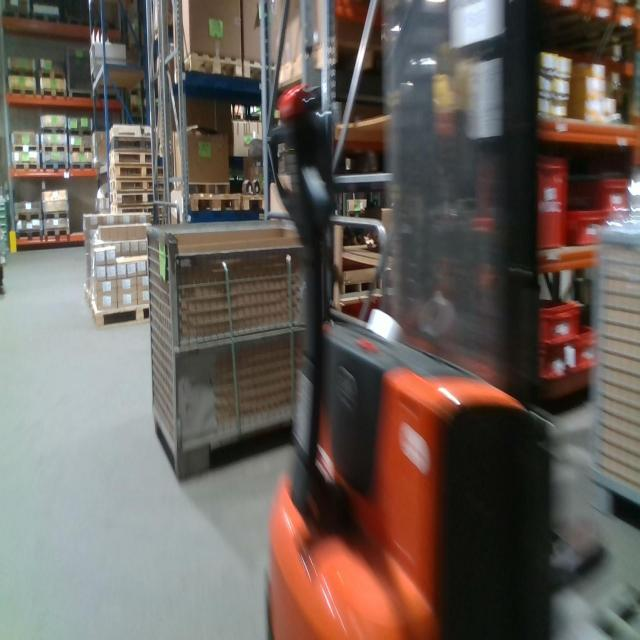pallet: (176, 53, 242, 83), (91, 302, 150, 329), (188, 191, 242, 215), (110, 164, 154, 181), (109, 136, 152, 153), (242, 59, 271, 82), (109, 193, 154, 207), (341, 279, 376, 295), (110, 181, 154, 193), (109, 153, 154, 164), (16, 227, 42, 240), (43, 227, 70, 239), (38, 69, 66, 80), (9, 85, 37, 96), (39, 87, 67, 98), (13, 161, 40, 172), (11, 143, 40, 153), (41, 125, 67, 136), (40, 143, 68, 153), (8, 68, 35, 78), (42, 161, 69, 171), (109, 207, 154, 213), (67, 127, 93, 137), (43, 210, 69, 220), (16, 211, 42, 221), (69, 162, 95, 171), (69, 144, 93, 153)
pallet_truck: (260, 0, 630, 636)
small_load_carrier: (538, 156, 568, 252), (579, 175, 626, 233), (530, 300, 579, 353), (560, 211, 607, 253), (538, 338, 577, 386), (575, 328, 605, 378)
stillage: (148, 218, 297, 480), (582, 158, 640, 526)
